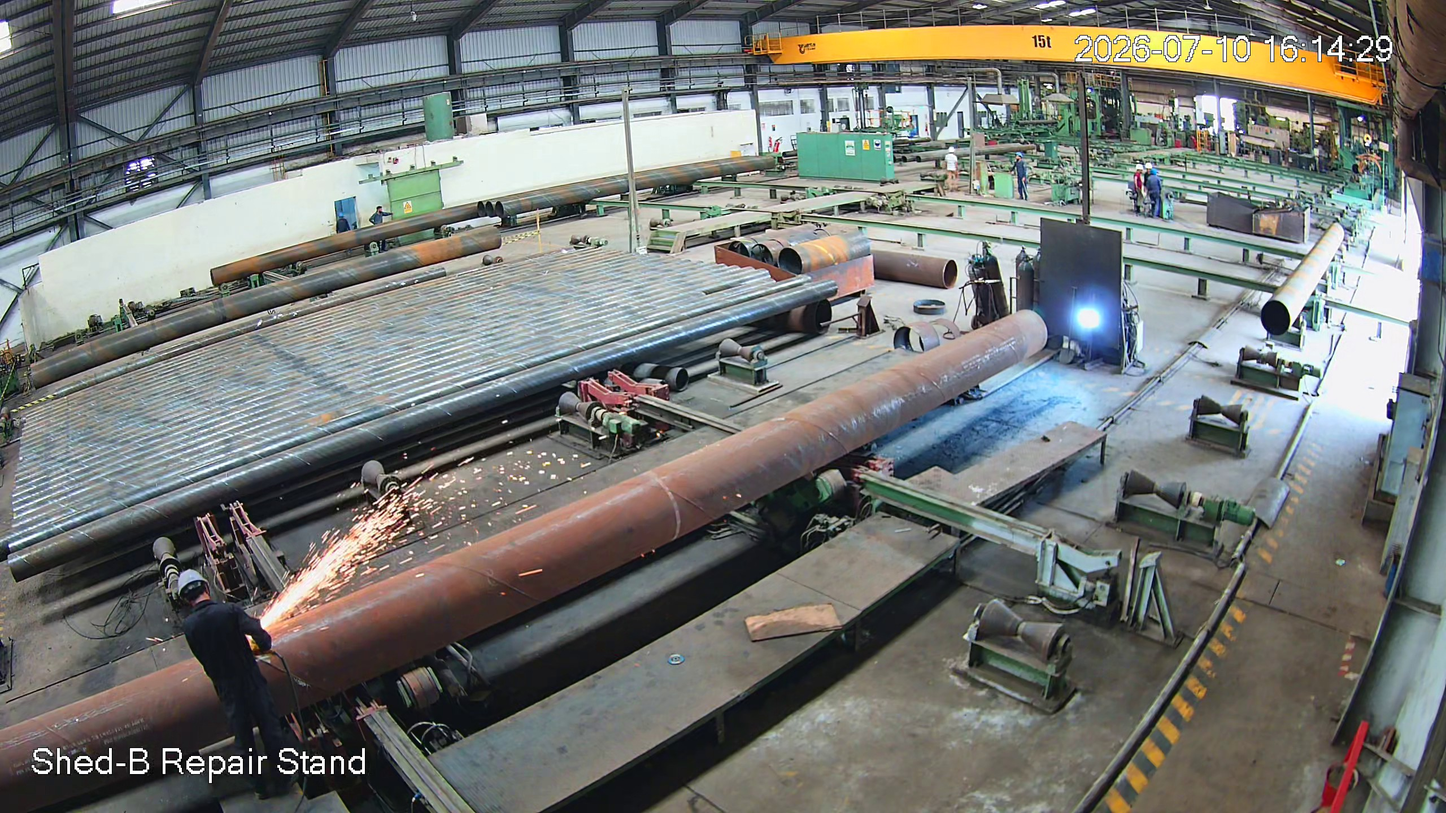Helmet: (170, 559, 223, 624), (1149, 166, 1161, 179), (1135, 163, 1144, 176)
Person: (169, 569, 312, 810), (1145, 168, 1159, 214), (1133, 165, 1144, 217)
